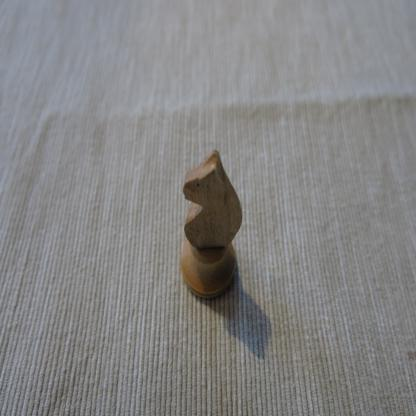white-knight: (180, 148, 244, 302)
